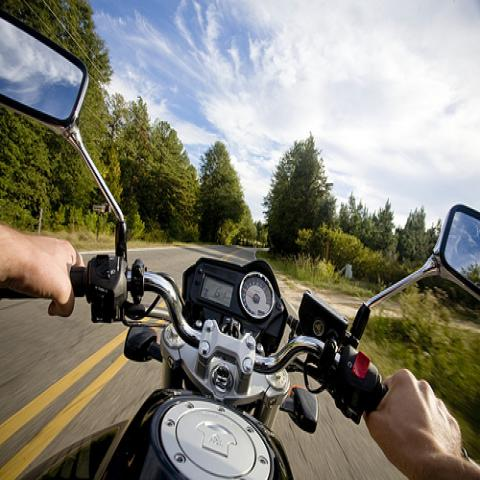motorcycle: (3, 14, 478, 474)
